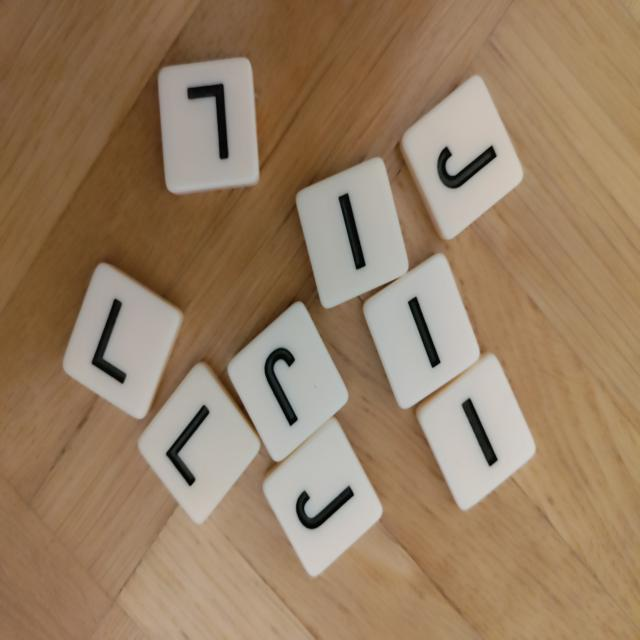i: (414, 349, 539, 515), (360, 250, 485, 415), (293, 155, 411, 312)
j: (395, 71, 527, 247), (256, 415, 387, 581), (223, 297, 352, 465)
l: (134, 356, 265, 529), (58, 258, 188, 423), (155, 54, 262, 196)
